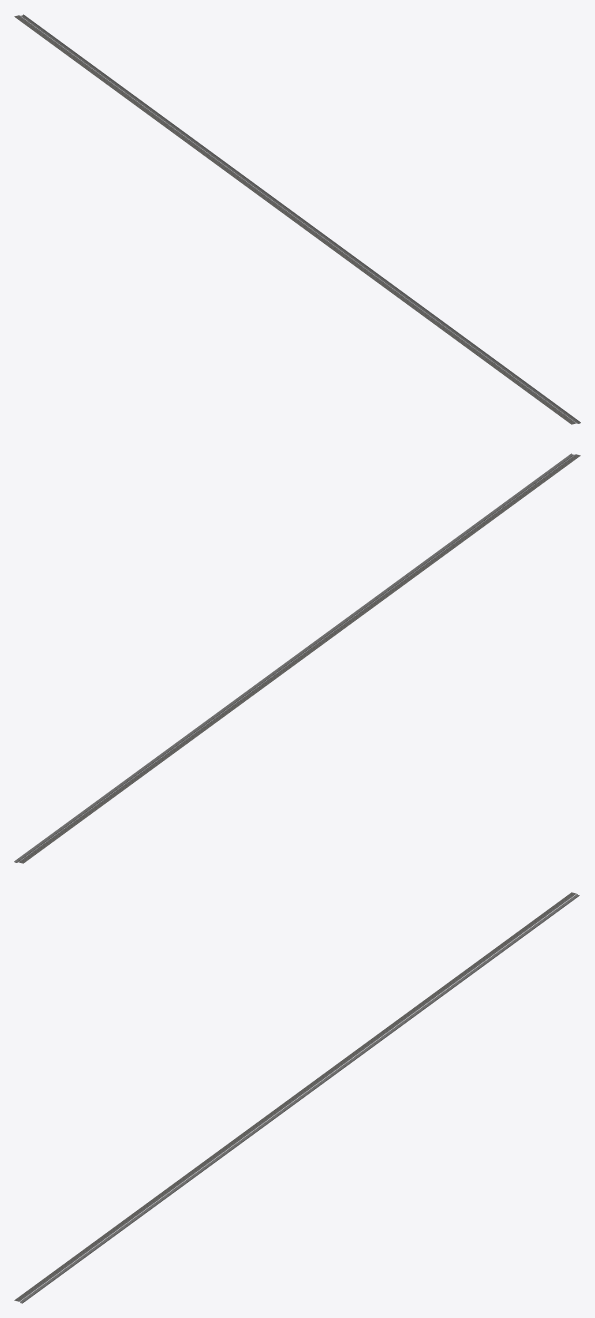
The model's file is SM_ENV_LKNVLD_Ground_Right_bigSideTrim_BG.FBX.
3 views of the same model, one above another, from view 1: azimuth 30°, elevation 25°; view 2: azimuth 150°, elevation 25°; view 3: azimuth 330°, elevation 25° (orthographic).
Visible parts, largest first — view 1: SM_ENV_LKNVLD_Ground_Right_bigSideTrim_BG; view 2: SM_ENV_LKNVLD_Ground_Right_bigSideTrim_BG; view 3: SM_ENV_LKNVLD_Ground_Right_bigSideTrim_BG.
Boxes of the visible parts, x1=… form: SM_ENV_LKNVLD_Ground_Right_bigSideTrim_BG: x1=14, y1=14, x2=580, y2=424; SM_ENV_LKNVLD_Ground_Right_bigSideTrim_BG: x1=14, y1=453, x2=580, y2=863; SM_ENV_LKNVLD_Ground_Right_bigSideTrim_BG: x1=14, y1=892, x2=579, y2=1303.
Bounding box in the file's own units: 458 × 49.27 × 47126.
